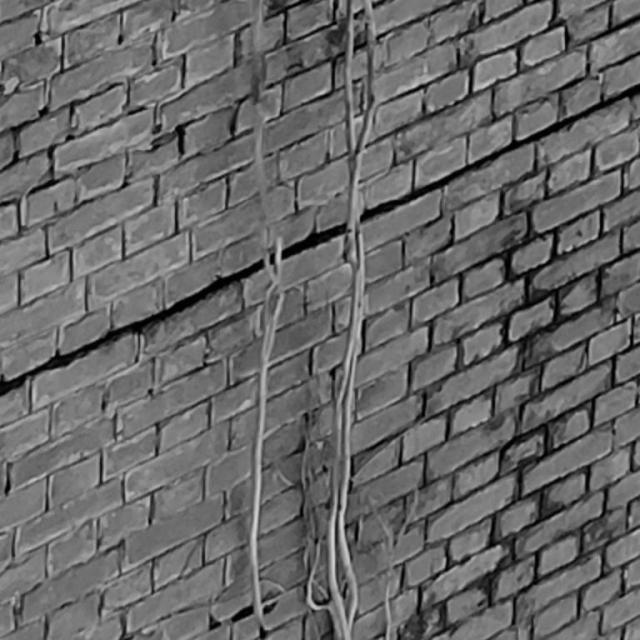crack: (1, 84, 640, 397)
